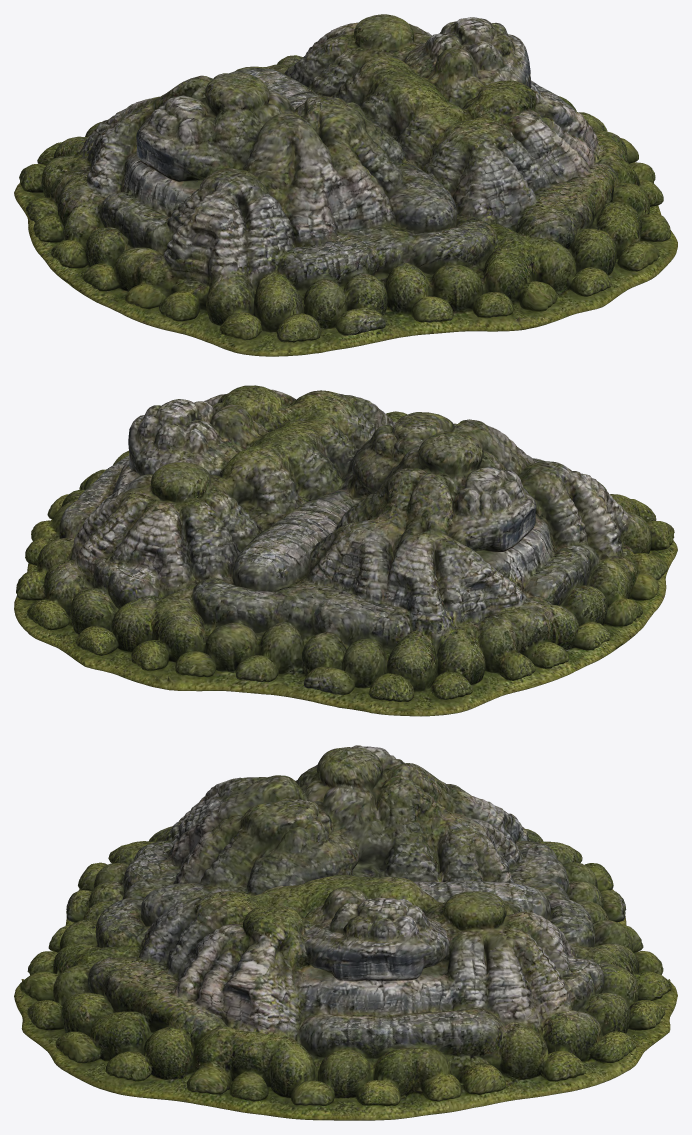
Rendered from oybin_berg.glb.
3 views of the same model, one above another, from view 1: azimuth 30°, elevation 25°; view 2: azimuth 150°, elevation 25°; view 3: azimuth 270°, elevation 25° (orthographic). The views are drawn at different scales.
Visible parts, largest first — view 1: tripo_node_39ee9eac-cd40-4a60-9c61-d938e508b135; view 2: tripo_node_39ee9eac-cd40-4a60-9c61-d938e508b135; view 3: tripo_node_39ee9eac-cd40-4a60-9c61-d938e508b135.
Part boxes in pixels (x1=…): tripo_node_39ee9eac-cd40-4a60-9c61-d938e508b135: x1=14, y1=14, x2=677, y2=356; tripo_node_39ee9eac-cd40-4a60-9c61-d938e508b135: x1=14, y1=385, x2=677, y2=716; tripo_node_39ee9eac-cd40-4a60-9c61-d938e508b135: x1=14, y1=745, x2=677, y2=1120.
Bounding box in the file's own units: 1 × 0.2897 × 0.9994.
1 material, 1 textured.
